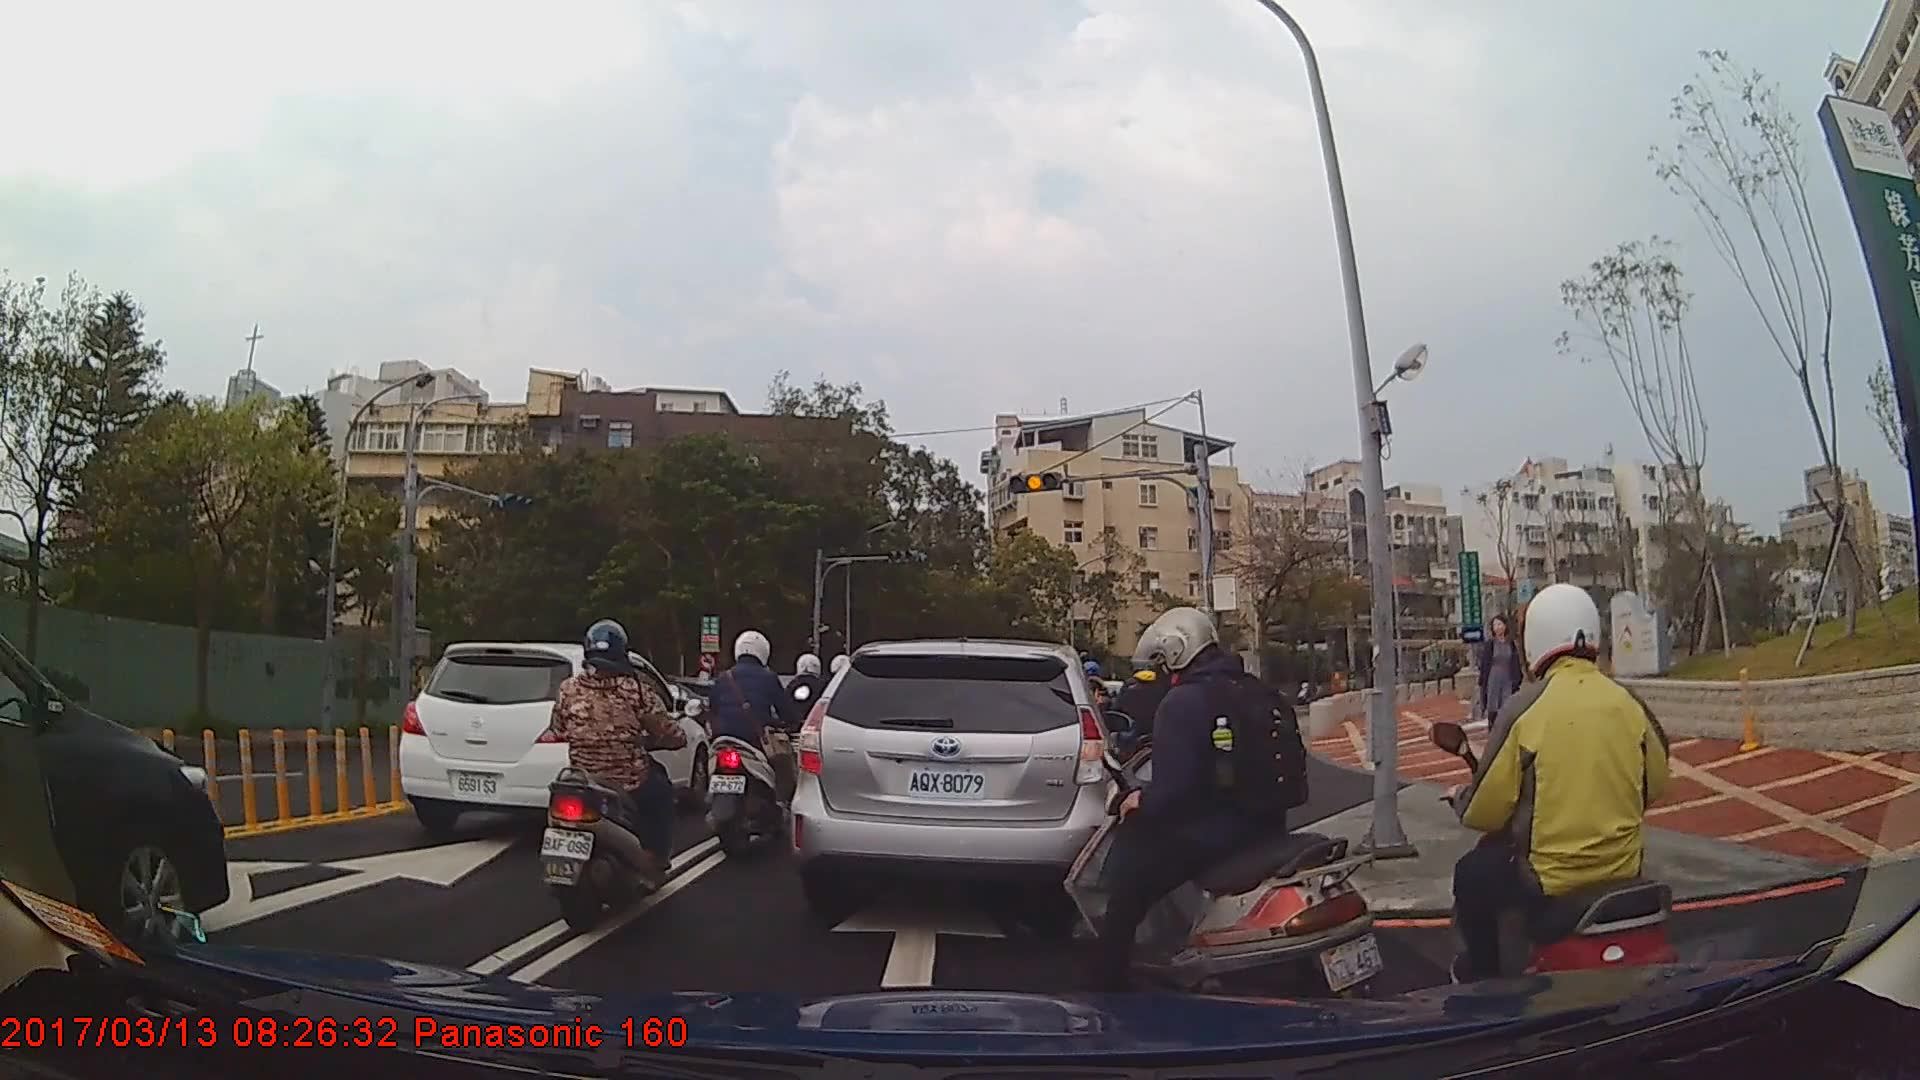pedestrian: (1473, 617, 1530, 757)
rider: (1056, 605, 1393, 1011), (1437, 576, 1684, 1051), (538, 616, 687, 935), (702, 627, 811, 858), (1107, 651, 1179, 825), (780, 654, 836, 806)
vehicle: (786, 636, 1119, 930), (0, 632, 226, 956), (396, 641, 710, 840)
